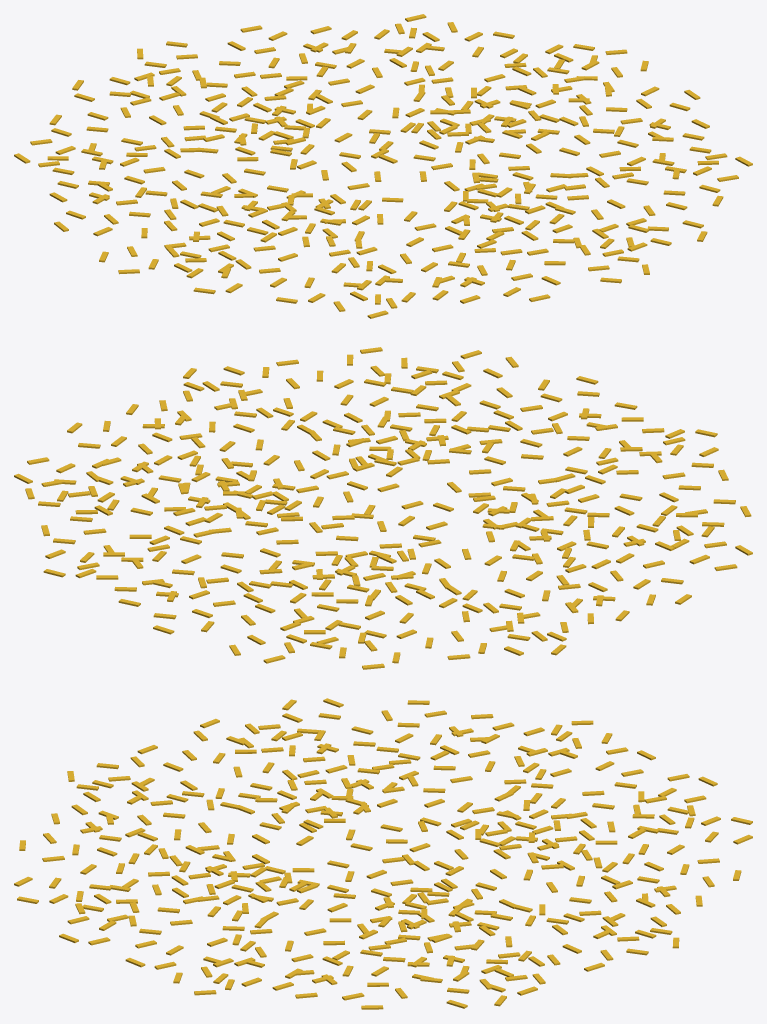
The model's file is mozzarella.glb.
3 renders of one model, top to bottom at view 1: azimuth 30°, elevation 25°; view 2: azimuth 150°, elevation 25°; view 3: azimuth 270°, elevation 25°, orthographic. The views are drawn at different scales.
Parts seen in each view (by area): view 1: mozzarella1; view 2: mozzarella1; view 3: mozzarella1.
Boxes of the visible parts, box(x1,y1,x2,y2) form: mozzarella1: box(14, 14, 752, 318); mozzarella1: box(14, 347, 752, 669); mozzarella1: box(14, 698, 752, 1009).
Size of the model in its own units: 0.3394 by 0.00086 by 0.3421.
